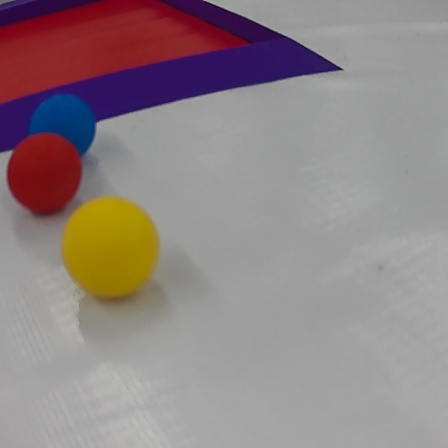blue: (27, 97, 107, 162)
red: (8, 129, 84, 217)
red_aim: (0, 0, 360, 155)
yellow: (60, 195, 159, 313)
